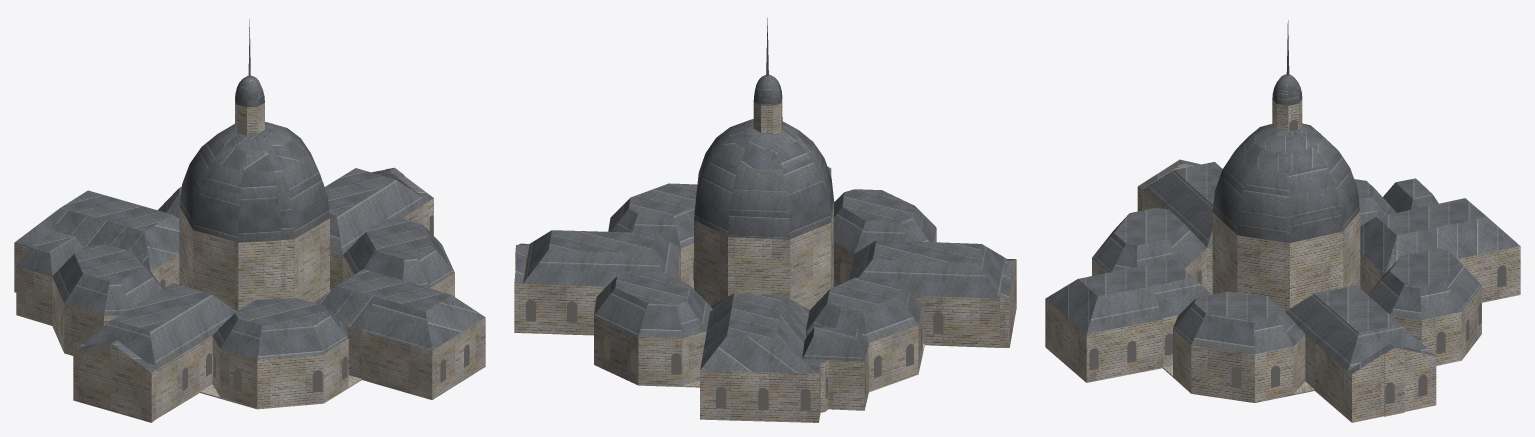
Rendered from saint-louis-de-la-salpetriere.glb.
The picture shows the model from 3 angles, left to right: view 1: azimuth 30°, elevation 25°; view 2: azimuth 150°, elevation 25°; view 3: azimuth 270°, elevation 25°; orthographic projection.
Visible parts, largest first — view 1: roof, stone, window; view 2: roof, stone, window; view 3: roof, stone, window.
Part boxes in pixels (x1=…): roof: x1=15, y1=19, x2=484, y2=372; stone: x1=14, y1=76, x2=485, y2=422; window: x1=17, y1=121, x2=469, y2=408; roof: x1=514, y1=18, x2=1015, y2=373; stone: x1=514, y1=75, x2=1016, y2=422; window: x1=526, y1=116, x2=1016, y2=410; roof: x1=1045, y1=20, x2=1520, y2=373; stone: x1=1045, y1=75, x2=1520, y2=422; window: x1=1051, y1=120, x2=1506, y2=409.
Bounding box in the file's own units: 72.01 × 50 × 70.59.
Materials: 3 (3 with a texture image).
